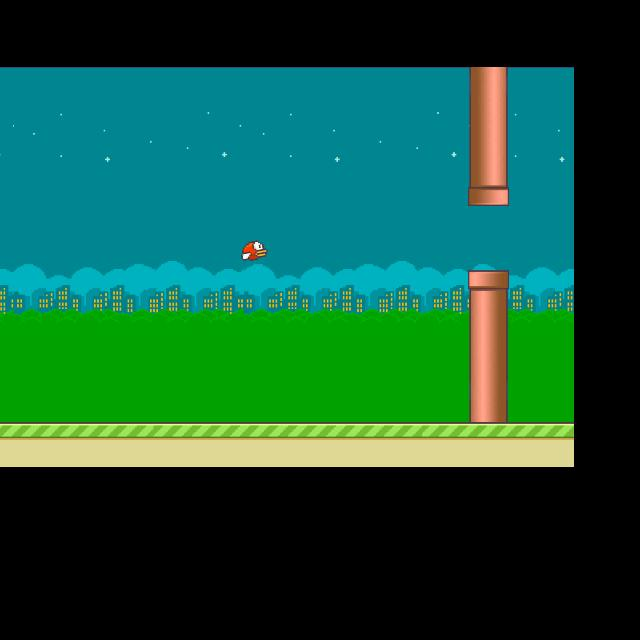bird: (240, 241, 267, 261)
pipedown: (467, 270, 508, 421)
pipeup: (468, 68, 509, 205)
